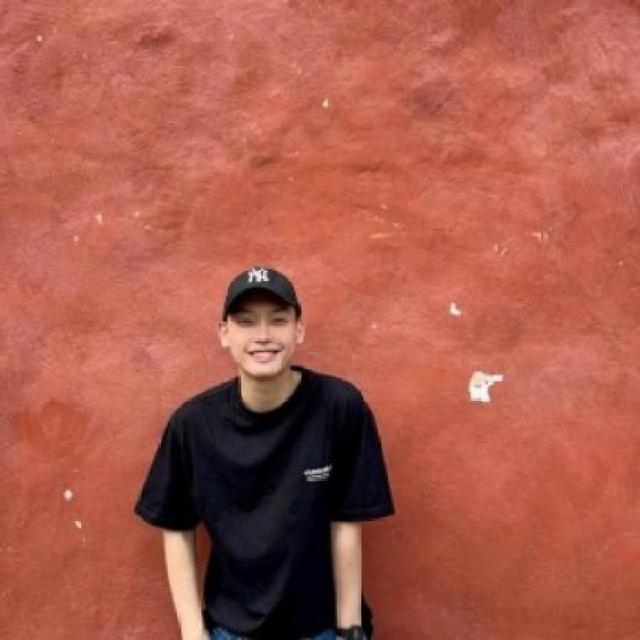hat: (224, 265, 302, 318)
